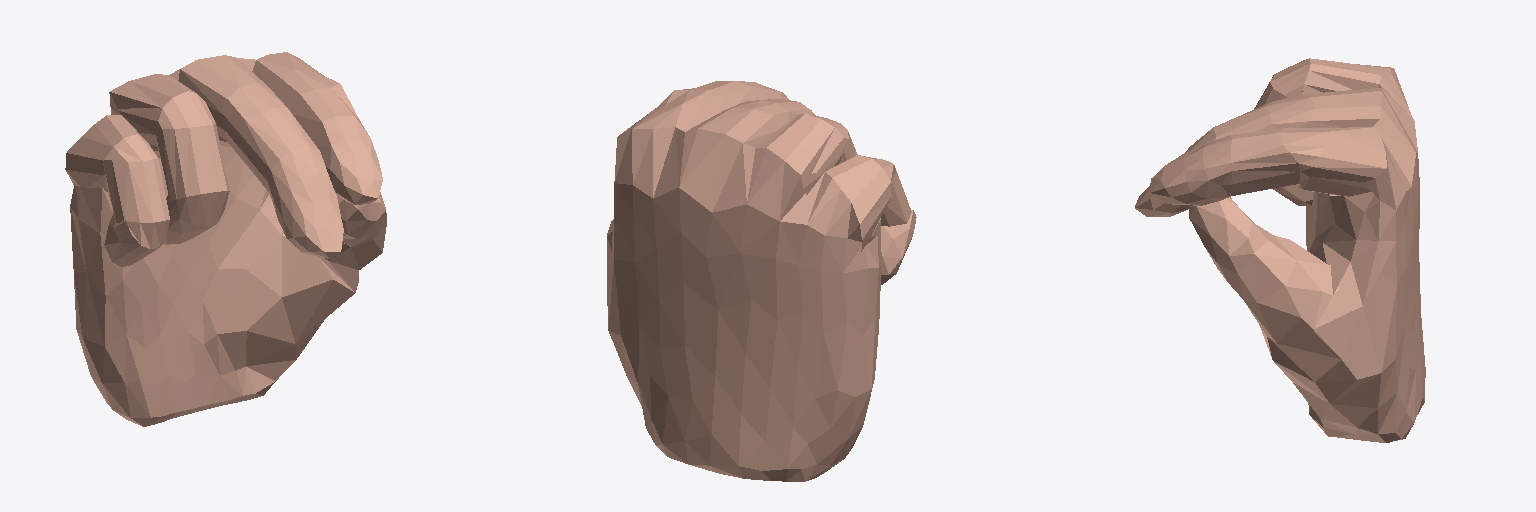
Rendered from MAO_PATO_FECHADA.obj.
The picture shows the model from 3 angles: view 1: azimuth 30°, elevation 25°; view 2: azimuth 150°, elevation 25°; view 3: azimuth 270°, elevation 25°; orthographic projection.
Parts seen in each view (by area): view 1: mao_dir:mao_dir; view 2: mao_dir:mao_dir; view 3: mao_dir:mao_dir.
Boxes of the visible parts, x1,y1,x2,y2 form: mao_dir:mao_dir: [65, 52, 386, 426]; mao_dir:mao_dir: [607, 81, 916, 481]; mao_dir:mao_dir: [1135, 58, 1425, 442].
Size of the model in its own units: 136 by 150 by 119.